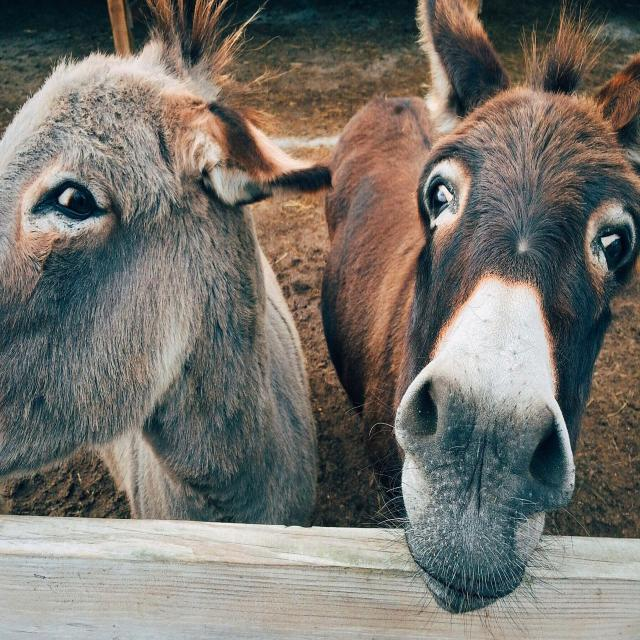donkey: (322, 0, 640, 611), (0, 0, 330, 526)
